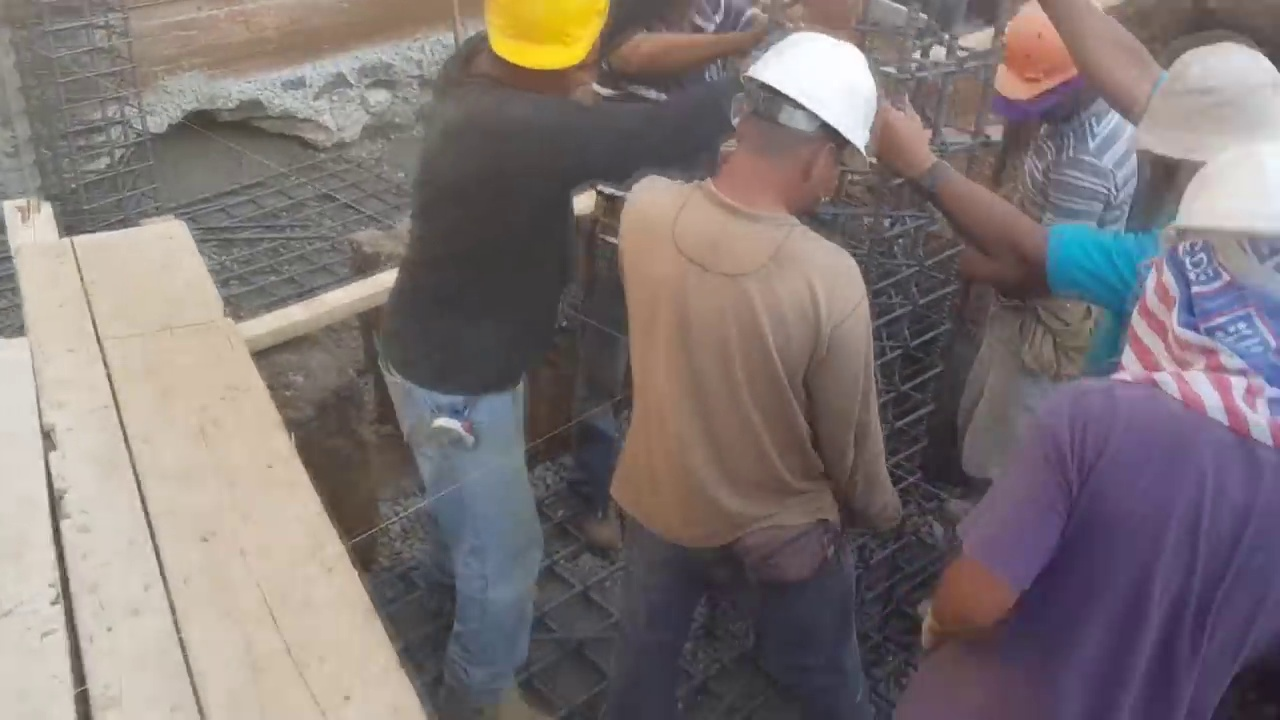helmet: (742, 33, 889, 163), (1173, 152, 1280, 249), (483, 2, 607, 71), (994, 9, 1082, 104)
helmet-off: (1125, 32, 1280, 240)
helmet-on: (1134, 146, 1280, 422), (698, 28, 891, 224), (984, 0, 1099, 135), (473, 5, 615, 105)
person: (909, 140, 1280, 720), (603, 24, 892, 720), (375, 0, 605, 719), (968, 15, 1147, 490)
